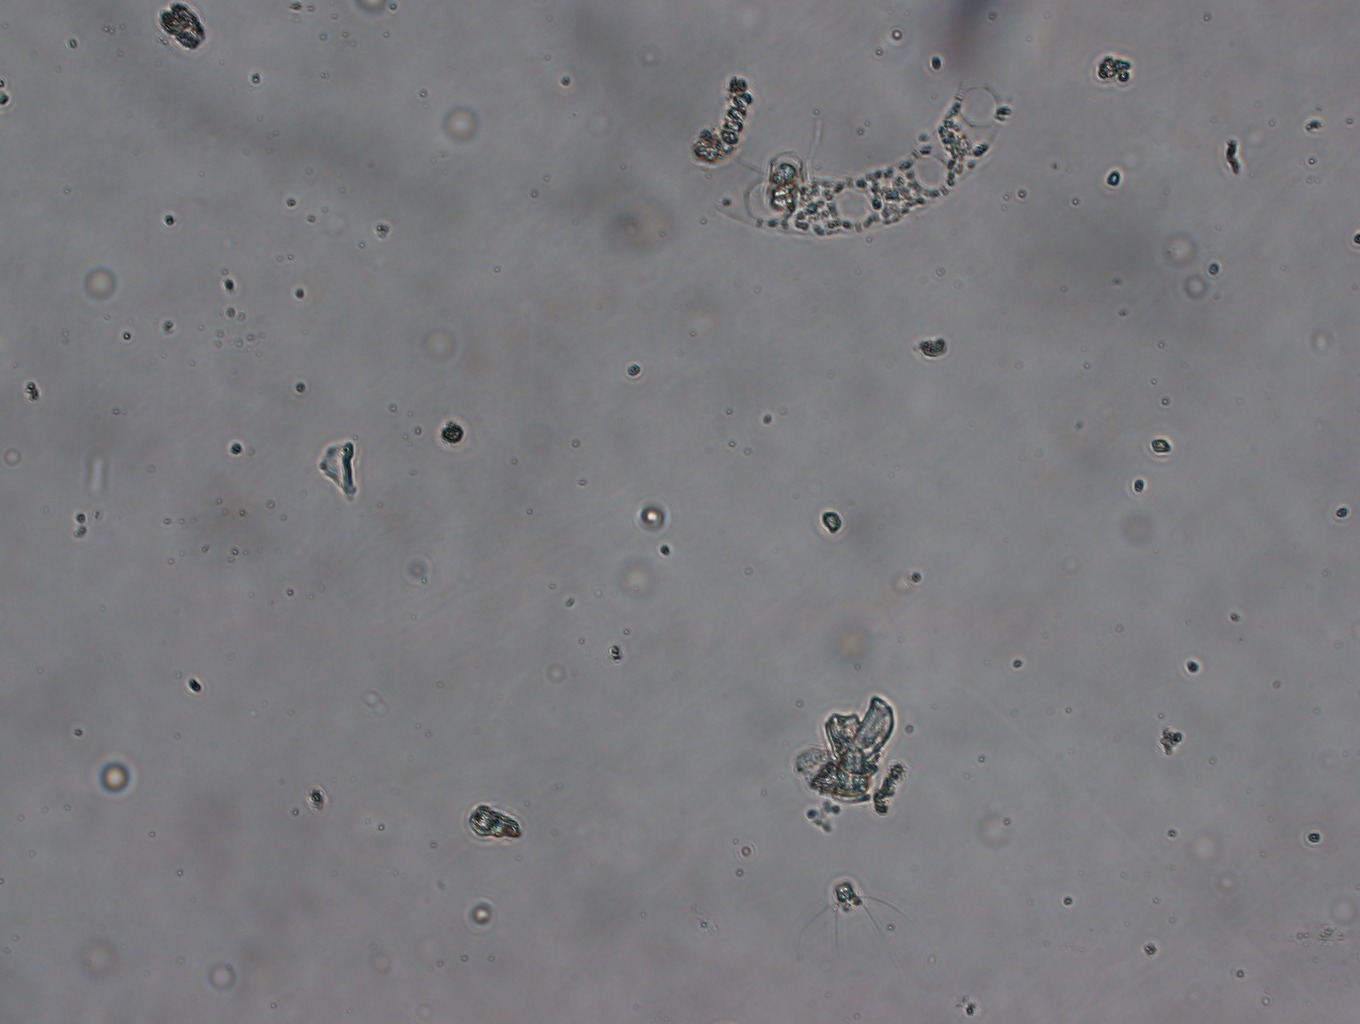eucampia: (702, 65, 1021, 248)
